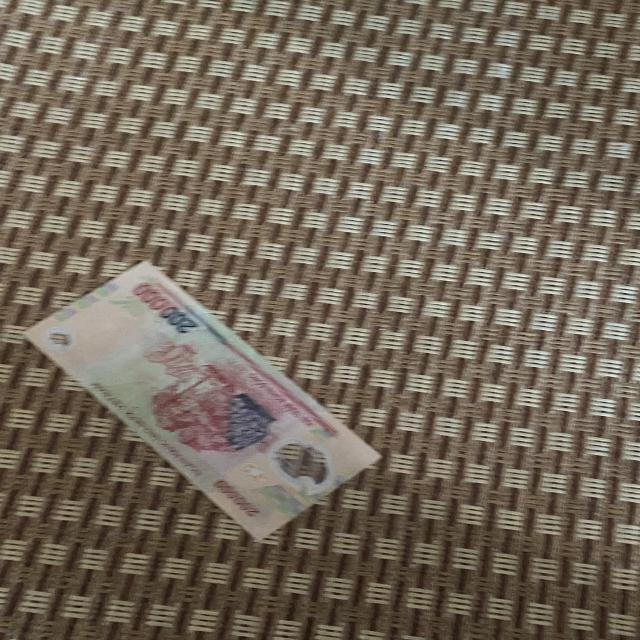200 000 VND: (22, 258, 385, 545)
